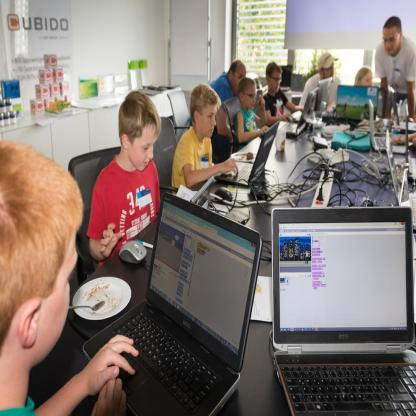board: (98, 194, 263, 416), (274, 208, 416, 416), (213, 118, 281, 187), (277, 88, 318, 139), (338, 85, 378, 122), (369, 99, 396, 152), (388, 84, 416, 132), (397, 166, 416, 231), (384, 128, 400, 205), (404, 114, 416, 183), (314, 75, 334, 114)
